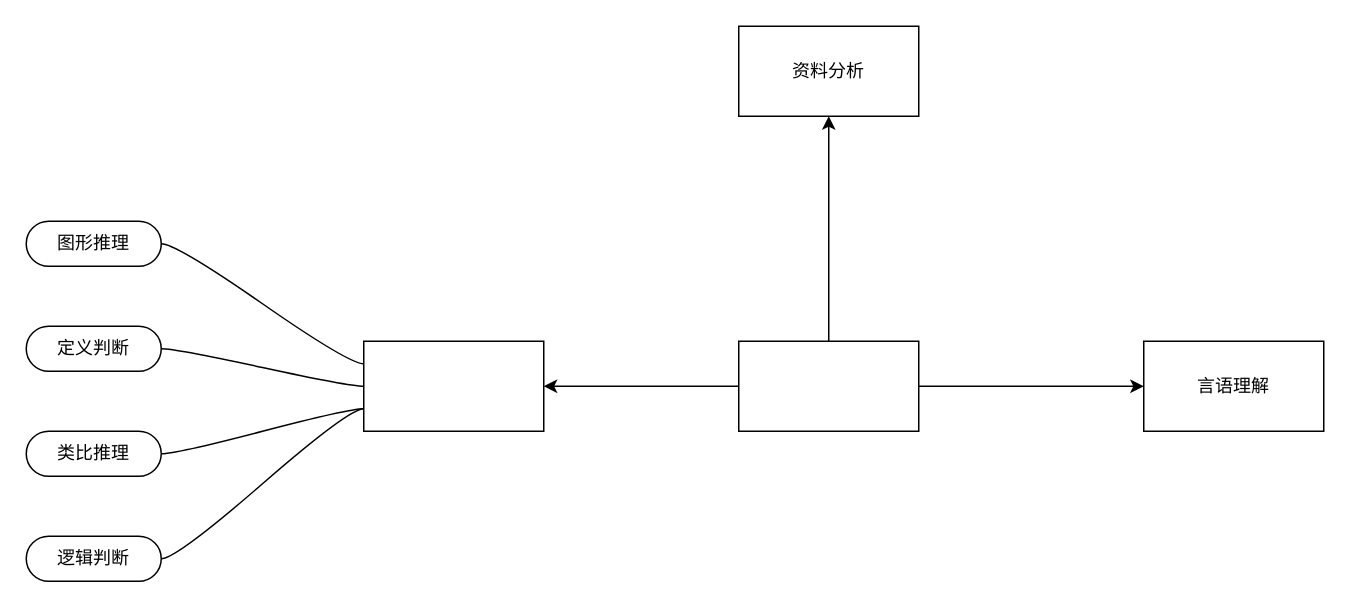
This 1350x608 diagram has some shape labels left out. Each missing label, with the centre of its shape:
"判断推理" belongs at (453,385).
"行测" belongs at (828,385).
